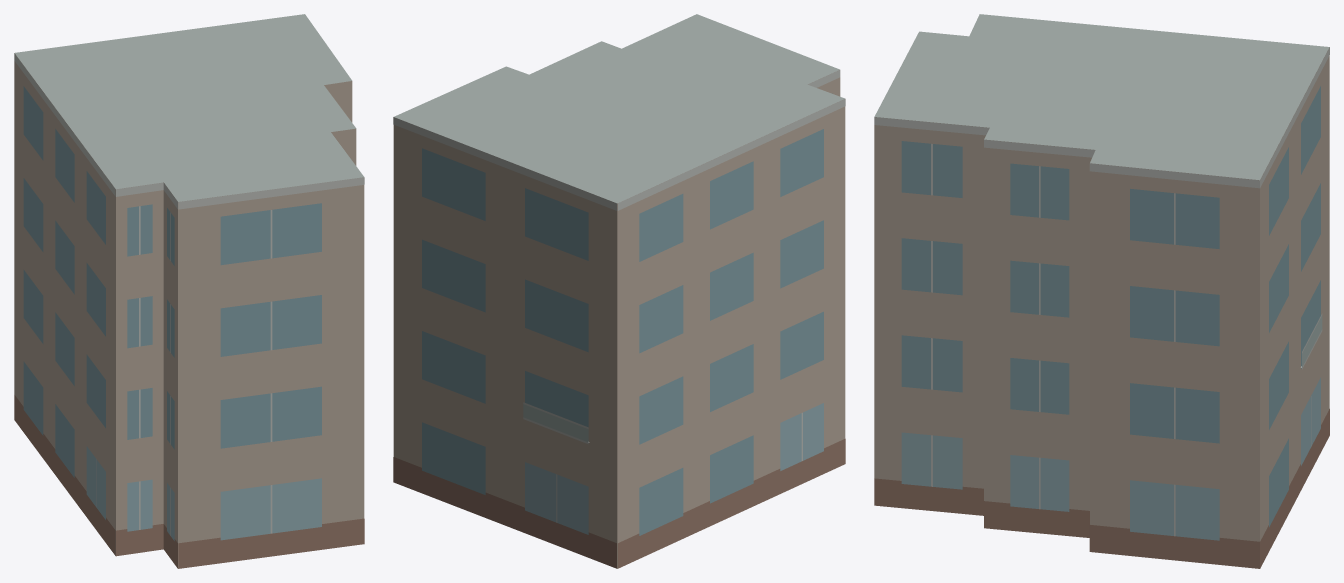
The model's file is survey-upis-32706610.glb.
3 views of the same model, side by side, from view 1: azimuth 30°, elevation 25°; view 2: azimuth 150°, elevation 25°; view 3: azimuth 270°, elevation 25° (orthographic). The views are drawn at different scales.
Visible parts, largest first — view 1: survey-upis-32706610.tmp; view 2: survey-upis-32706610.tmp; view 3: survey-upis-32706610.tmp.
Boxes of the visible parts, x1=… form: survey-upis-32706610.tmp: x1=14, y1=14, x2=364, y2=568; survey-upis-32706610.tmp: x1=393, y1=14, x2=845, y2=568; survey-upis-32706610.tmp: x1=874, y1=14, x2=1329, y2=568.
Size of the model in its own units: 10.74 by 11.7 by 12.43.
